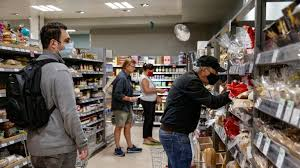Good: (22, 20, 229, 137), (16, 16, 142, 166), (140, 55, 230, 168), (111, 57, 161, 157)
